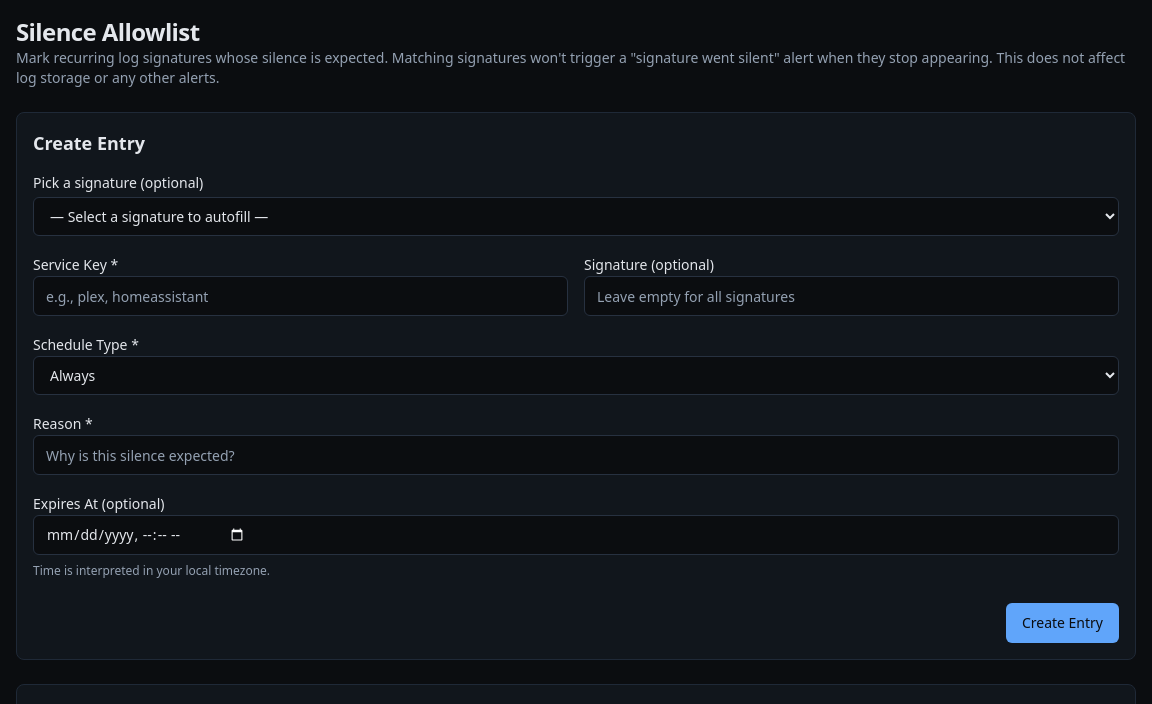
Test: SilenceAllowlistTab › shows window fields when schedule_kind changes to window
This screenshot has width=1152, height=704.
Select "Window" in the dropdown with test id "silence-schedule-kind": (576, 376) x1=33 y1=356 x2=1119 y2=395
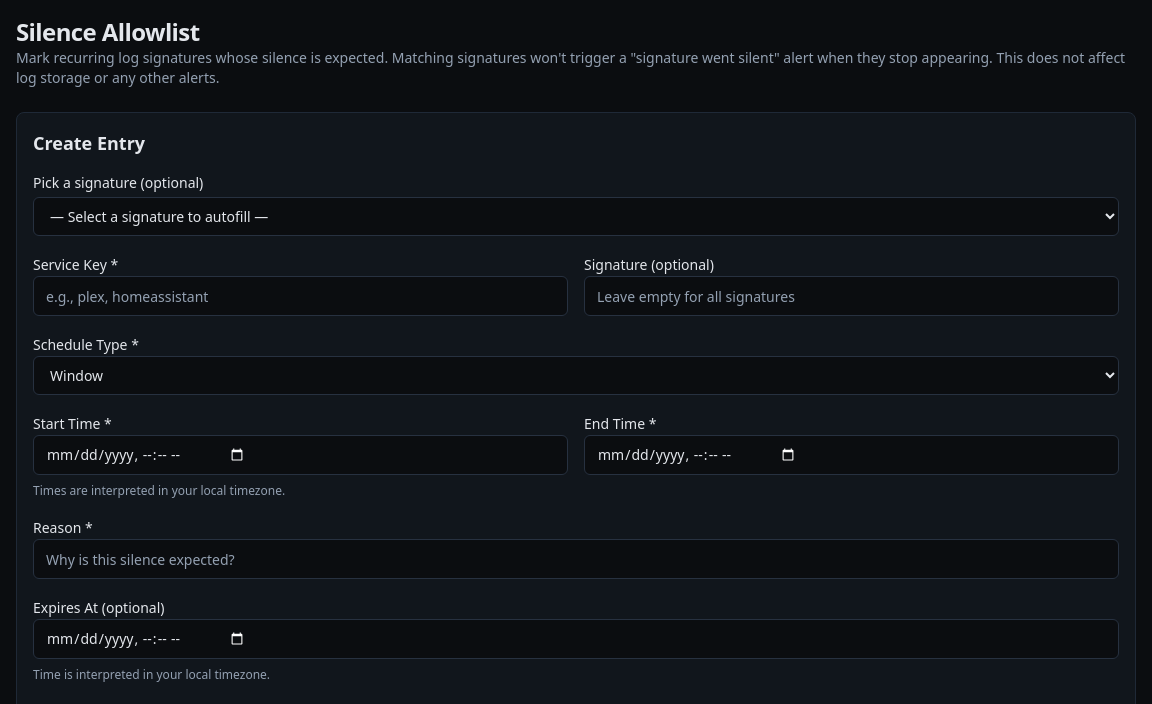
expect the field with test id "silence-window-start" is shown: met, box x1=33 y1=435 x2=568 y2=475
expect the field with test id "silence-window-end" is shown: met, box x1=584 y1=435 x2=1119 y2=475
